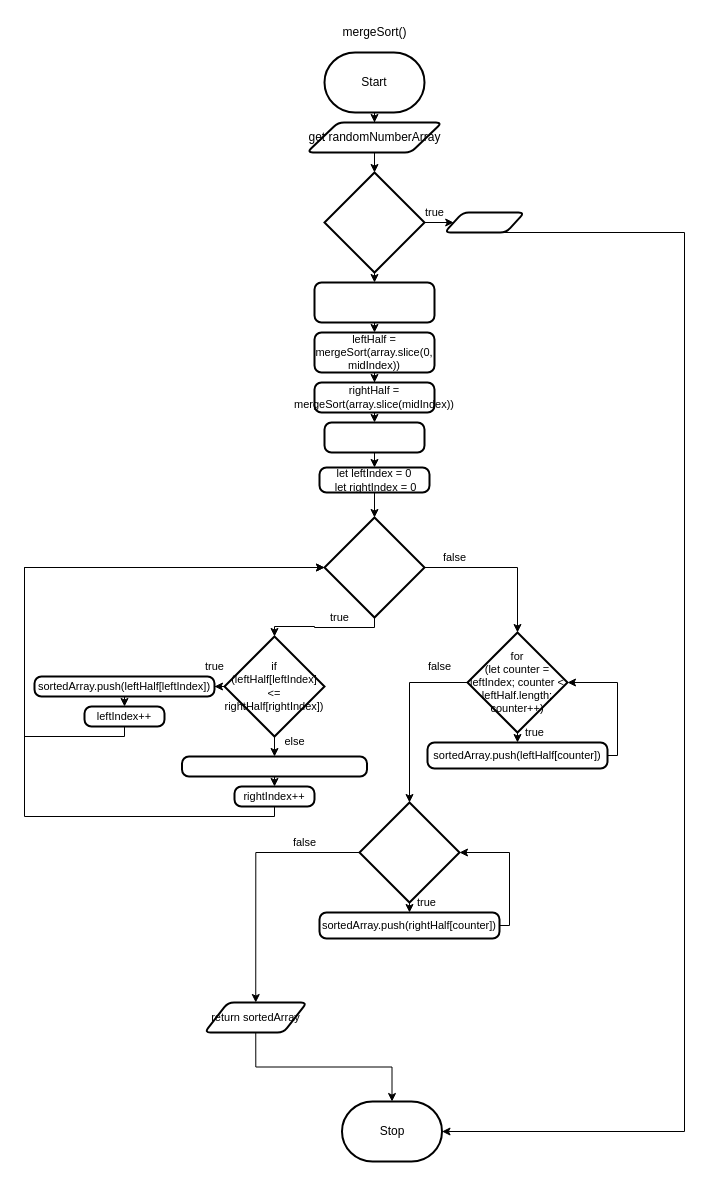
The diagram is 710 pixels wide and 1179 high, and some of its shapes have lost their labels. Each missing label, with the box of its shape:
for (let counter = rightIndex; counter < rightHalf.length; counter++): (358, 801, 460, 903)
if array.length <= 1: (323, 171, 425, 273)
midIndex = Math.floor(array.length / 2): (313, 281, 435, 323)
return array: (443, 211, 525, 233)
sortedArray.push(rightHalf[rightIndex]): (180, 755, 368, 777)
sortedArray: number[] = []: (323, 421, 425, 453)
while (leftIndex < leftHalf.length && rightIndex < rightHalf.length): (323, 516, 425, 618)
